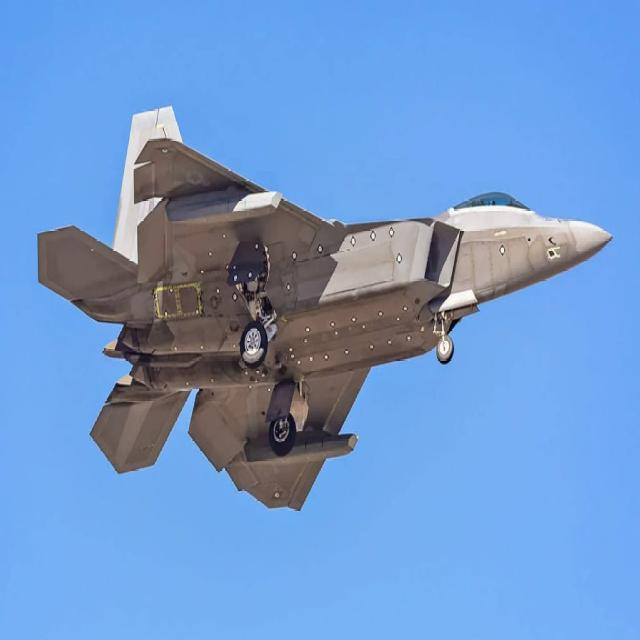F22: (15, 88, 640, 524)
